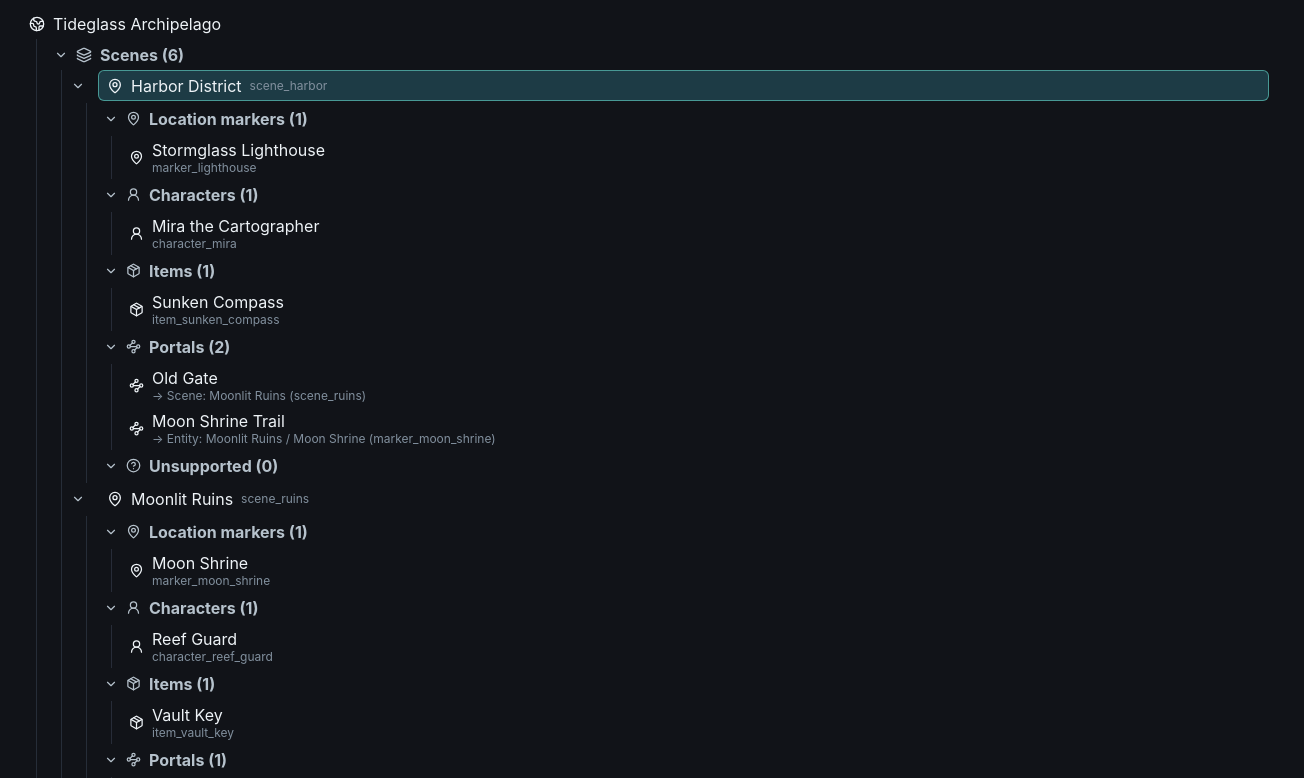
Test: synchronized editor views › selecting an entity in the graph selects it on the map and in Properties
Click the list item "Sunken Compass item_sunken_compass": x=218, y=302 x1=120 y1=288 x2=1269 y2=331
(page scrolled)
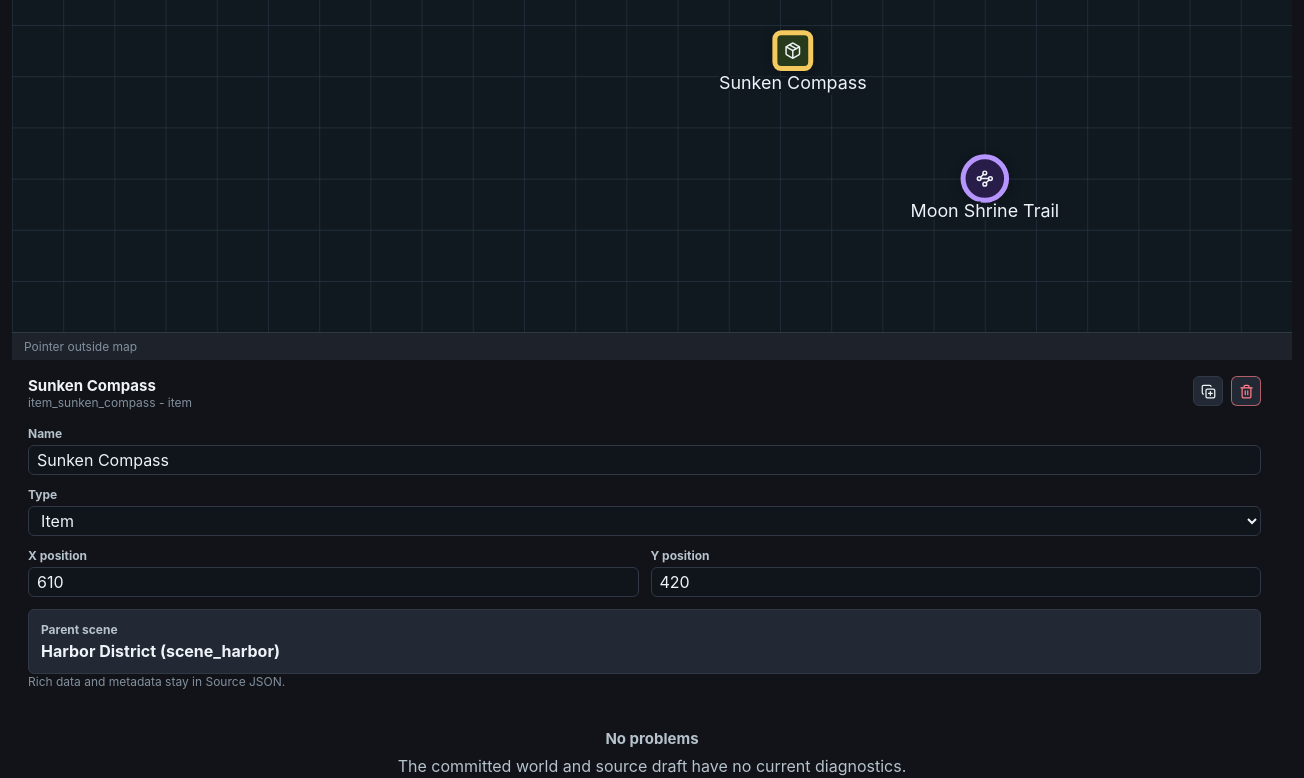
Now the field named "Entity name" holds "Sunken Compass", box x1=28 y1=445 x2=1261 y2=475
Now the dropdown named "Entity type" shows "Item", box x1=28 y1=506 x2=1261 y2=536
Now the field labelled "X position" holds "610", box x1=28 y1=567 x2=638 y2=597
